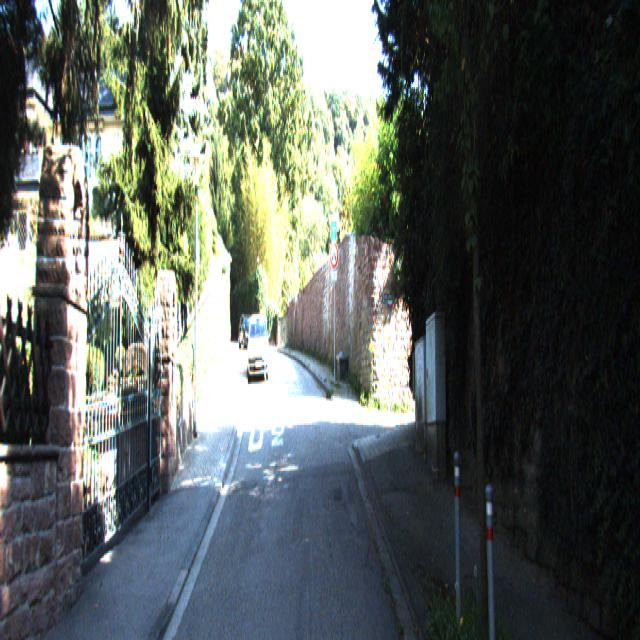Car: (247, 311, 268, 384), (239, 316, 257, 360)
